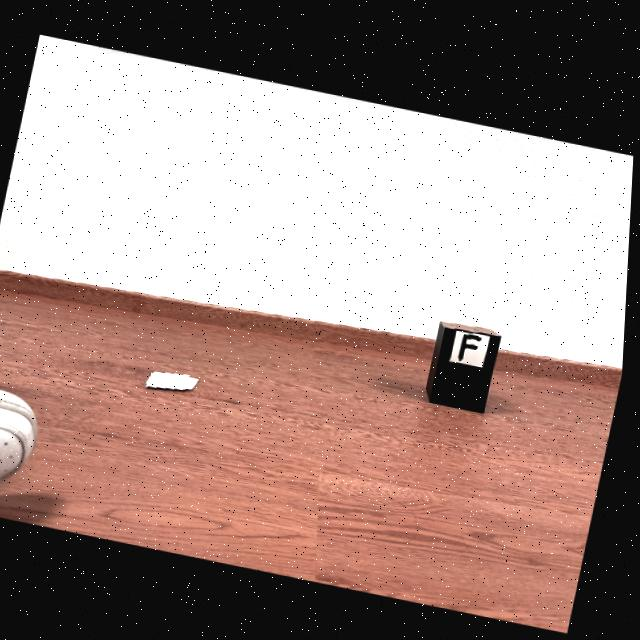F: (462, 330, 485, 356)
